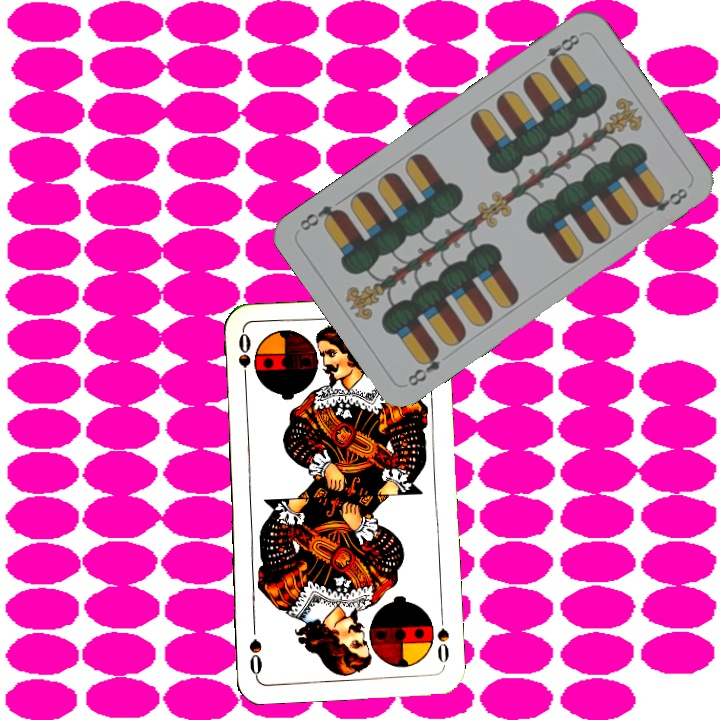E8: (403, 344, 444, 389), (542, 30, 582, 71)
SO: (235, 329, 254, 388), (433, 610, 452, 669)
